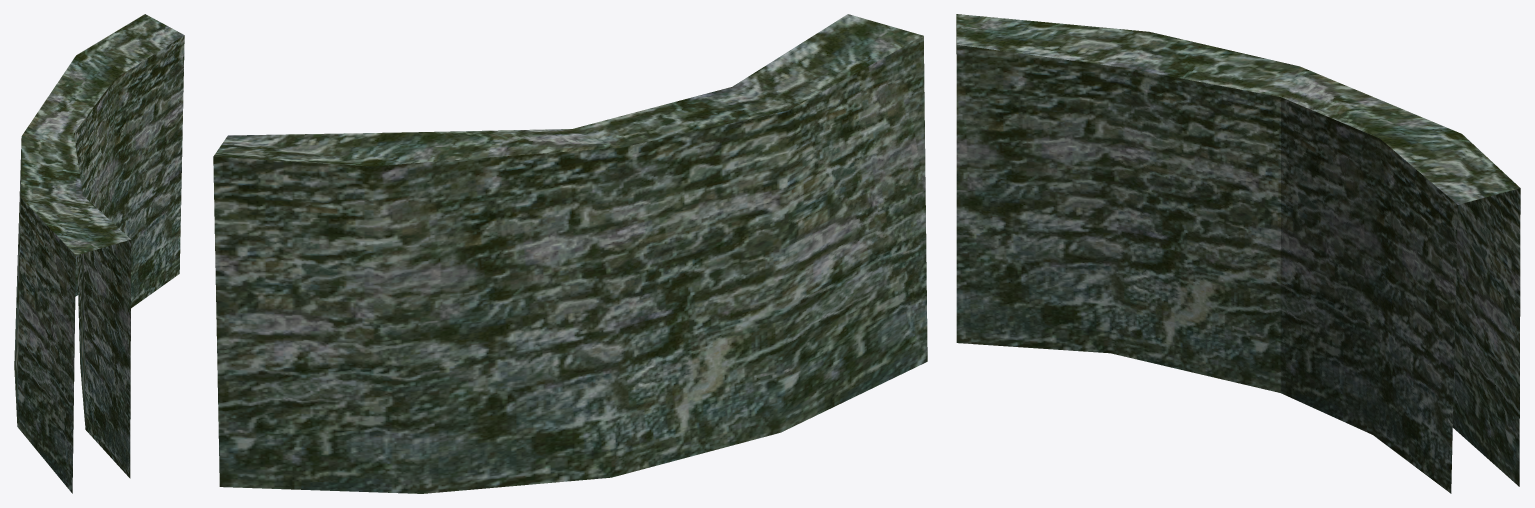
File: Tn_wall3.glb
The picture shows the model from 3 angles, left to right: view 1: azimuth 30°, elevation 25°; view 2: azimuth 150°, elevation 25°; view 3: azimuth 270°, elevation 25°; orthographic projection. The views are drawn at different scales.
Parts seen in each view (by area): view 1: Tn_wall3-col; view 2: Tn_wall3-col; view 3: Tn_wall3-col.
Part boxes in pixels (x1,y1,x2,y2): Tn_wall3-col: [14, 14, 184, 493]; Tn_wall3-col: [213, 14, 927, 493]; Tn_wall3-col: [956, 14, 1520, 493].
Bounding box in the file's own units: 10.93 × 8.11 × 13.67.
1 material, 1 textured.
